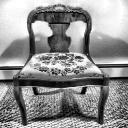chair_success: (5, 2, 112, 128)
